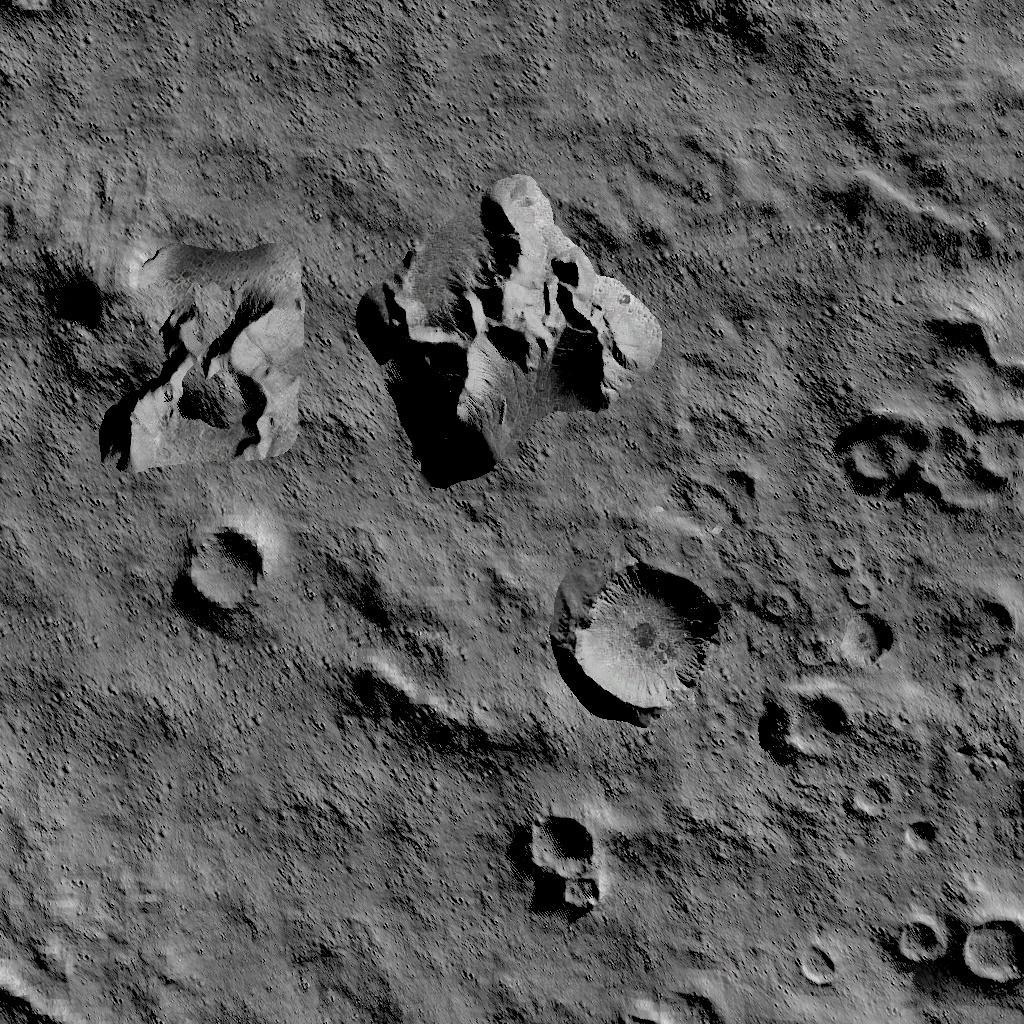Boulders: (357, 174, 664, 482), (51, 220, 319, 473)
Crater: (829, 316, 1024, 514), (553, 552, 725, 716), (884, 896, 1022, 978), (181, 518, 275, 616), (756, 680, 858, 770), (524, 804, 612, 906), (605, 980, 730, 1024), (955, 589, 1012, 662), (836, 608, 888, 667), (792, 934, 838, 985), (841, 777, 896, 817), (904, 814, 940, 850)
Plan surface: (3, 628, 357, 968), (673, 62, 818, 457), (83, 0, 351, 209), (366, 0, 656, 166), (365, 748, 517, 1024), (827, 0, 1024, 192), (0, 480, 165, 617)
